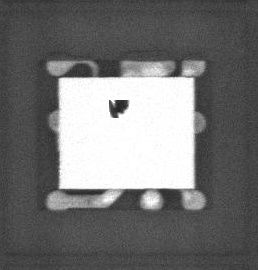DIE_INK: (104, 105, 123, 122)
